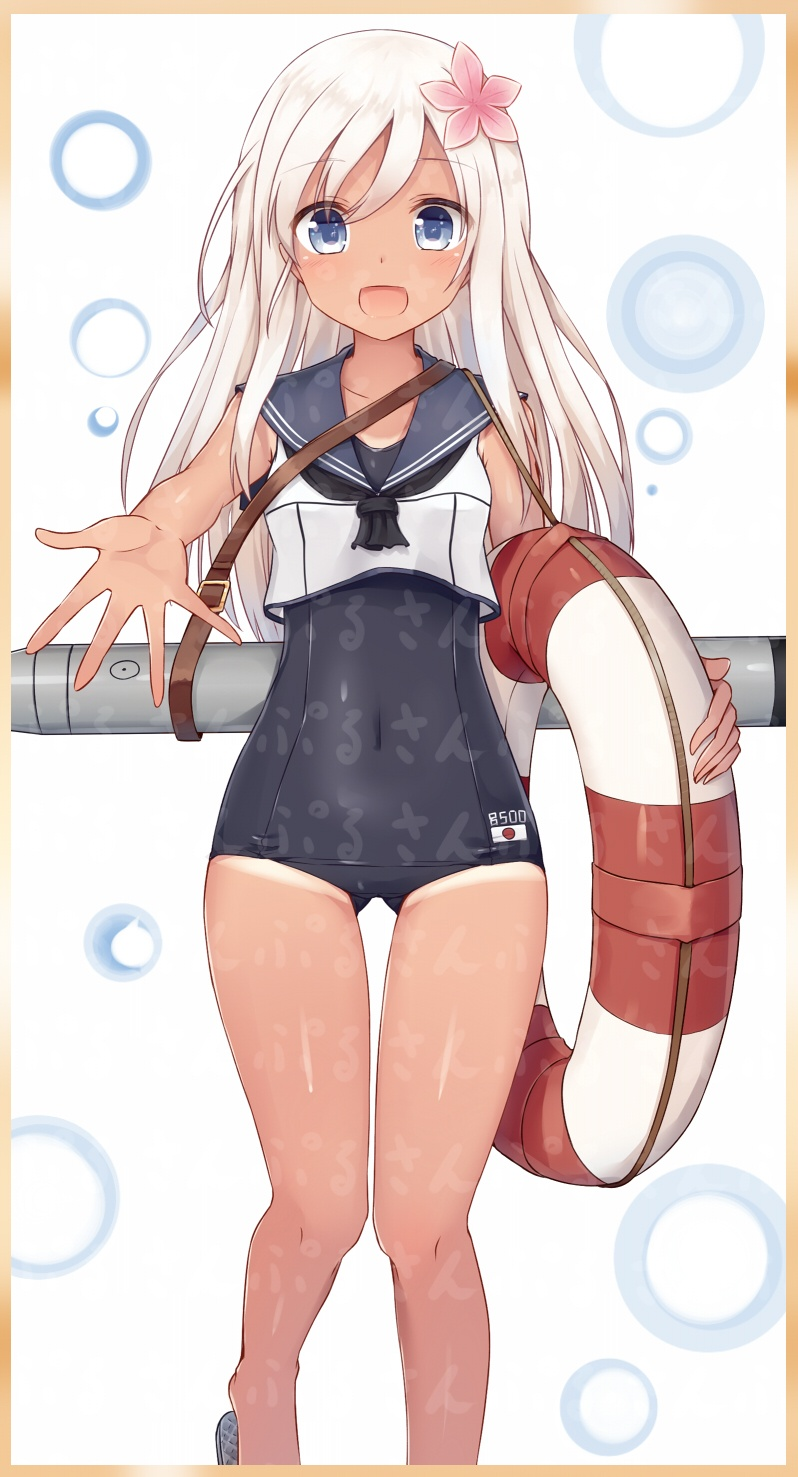纸片人正脸: (216, 23, 539, 349)
